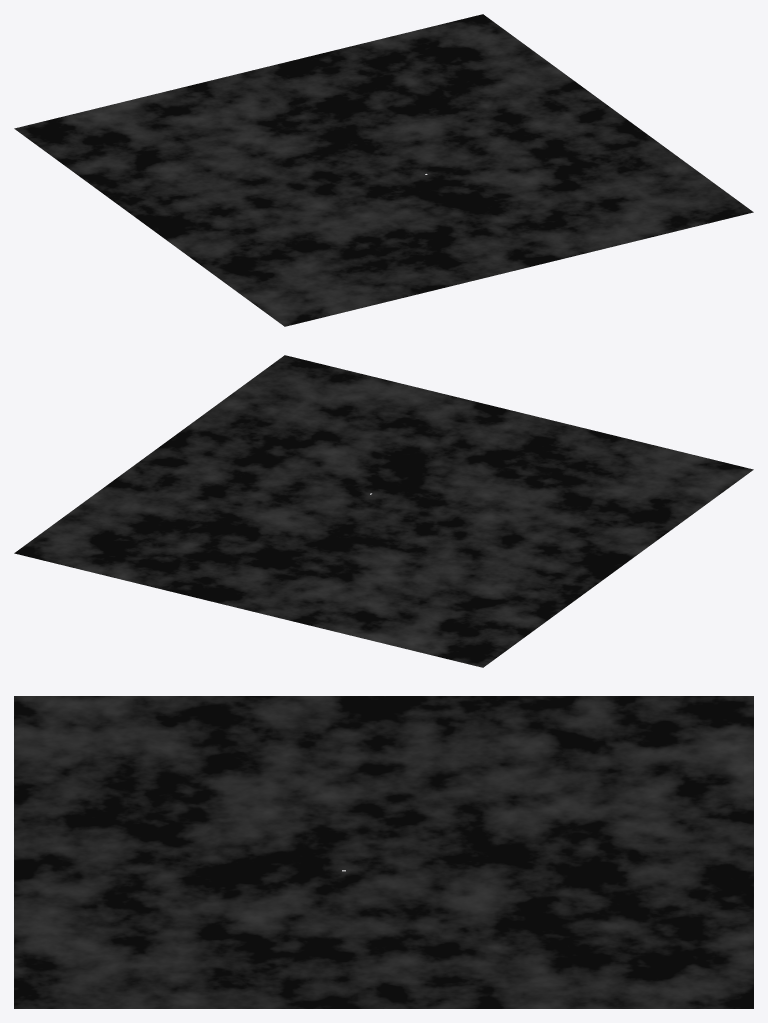
The model's file is BlackGround.fbx.
3 renders of one model, top to bottom at view 1: azimuth 30°, elevation 25°; view 2: azimuth 150°, elevation 25°; view 3: azimuth 270°, elevation 25°, orthographic. The views are drawn at different scales.
Parts seen in each view (by area): view 1: Plane; view 2: Plane; view 3: Plane.
Part boxes in pixels (x1=…): Plane: x1=14, y1=14, x2=753, y2=326; Plane: x1=14, y1=355, x2=753, y2=667; Plane: x1=14, y1=696, x2=753, y2=1008.
Size of the model in its own units: 39820 by 0.00649 by 39820.
Materials: 1 (1 with a texture image).
